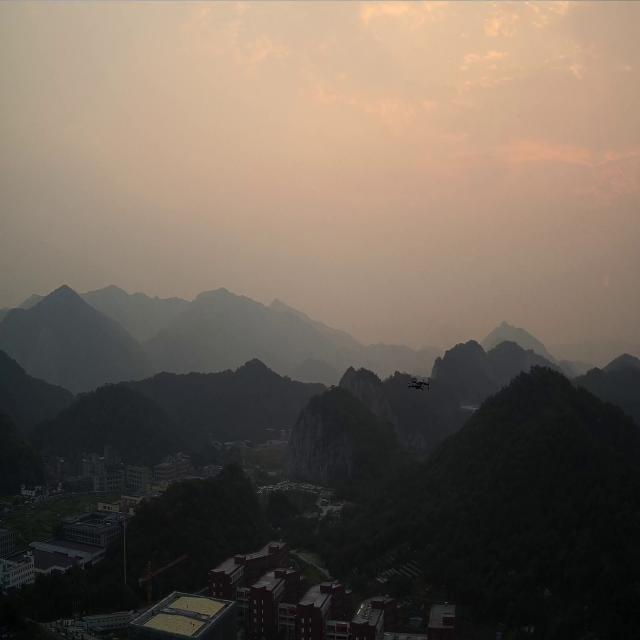drone: (407, 378, 429, 390)
